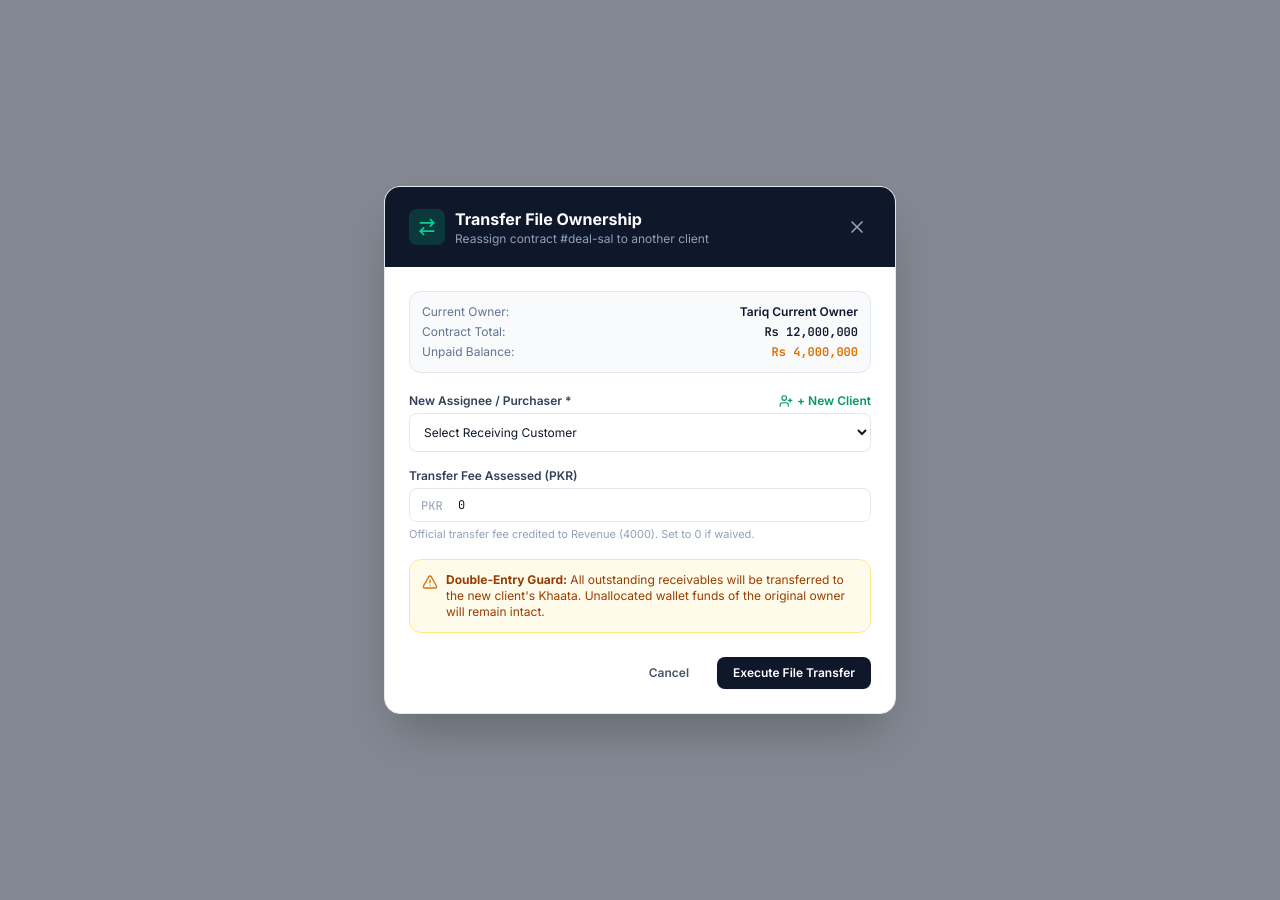
Scenario: TransferFileModal Component › 4. shows validation error when entering a negative transfer fee
The width and height of the screenshot is (1280, 900).
// Select customer
Select "Chaudri Aslam (03002222222)" in the dropdown at (640, 433), box [409,413,871,452]
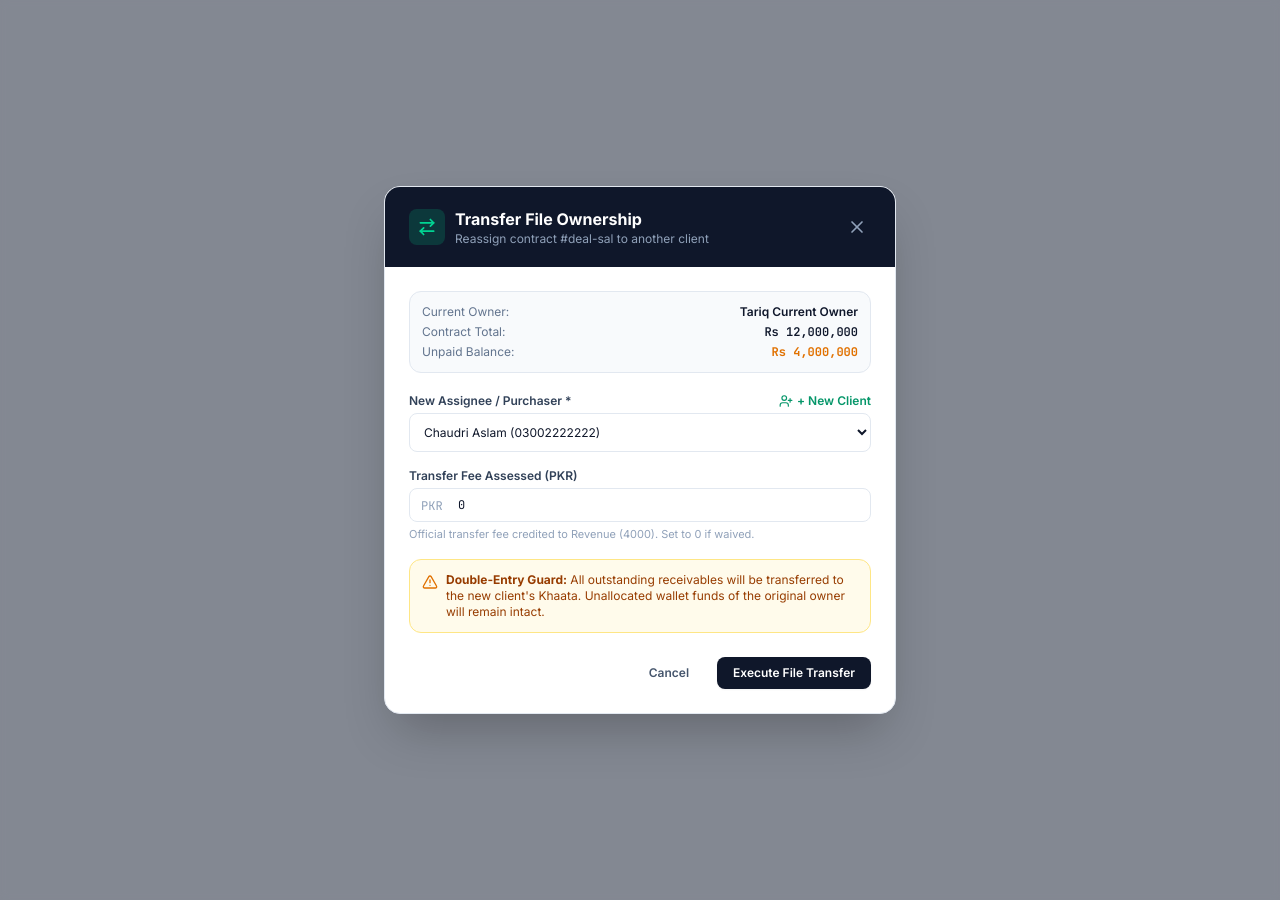
// Enter negative fee
Type "-5000" into the number field with placeholder "0".
click(640, 505); type("-5000")  # box [409,488,871,522]
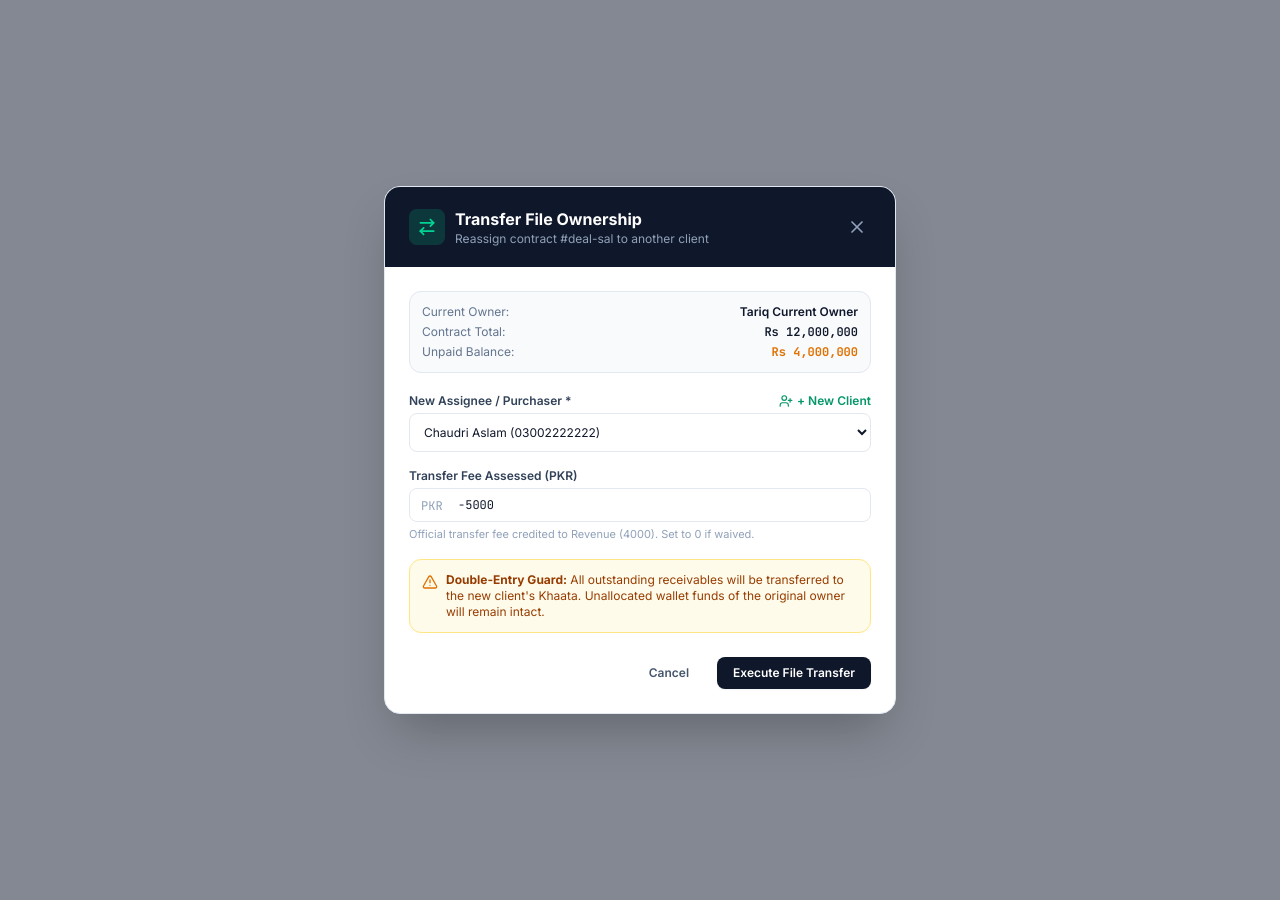
Submit the form named "Execute File Transfer", box [409,393,871,689]
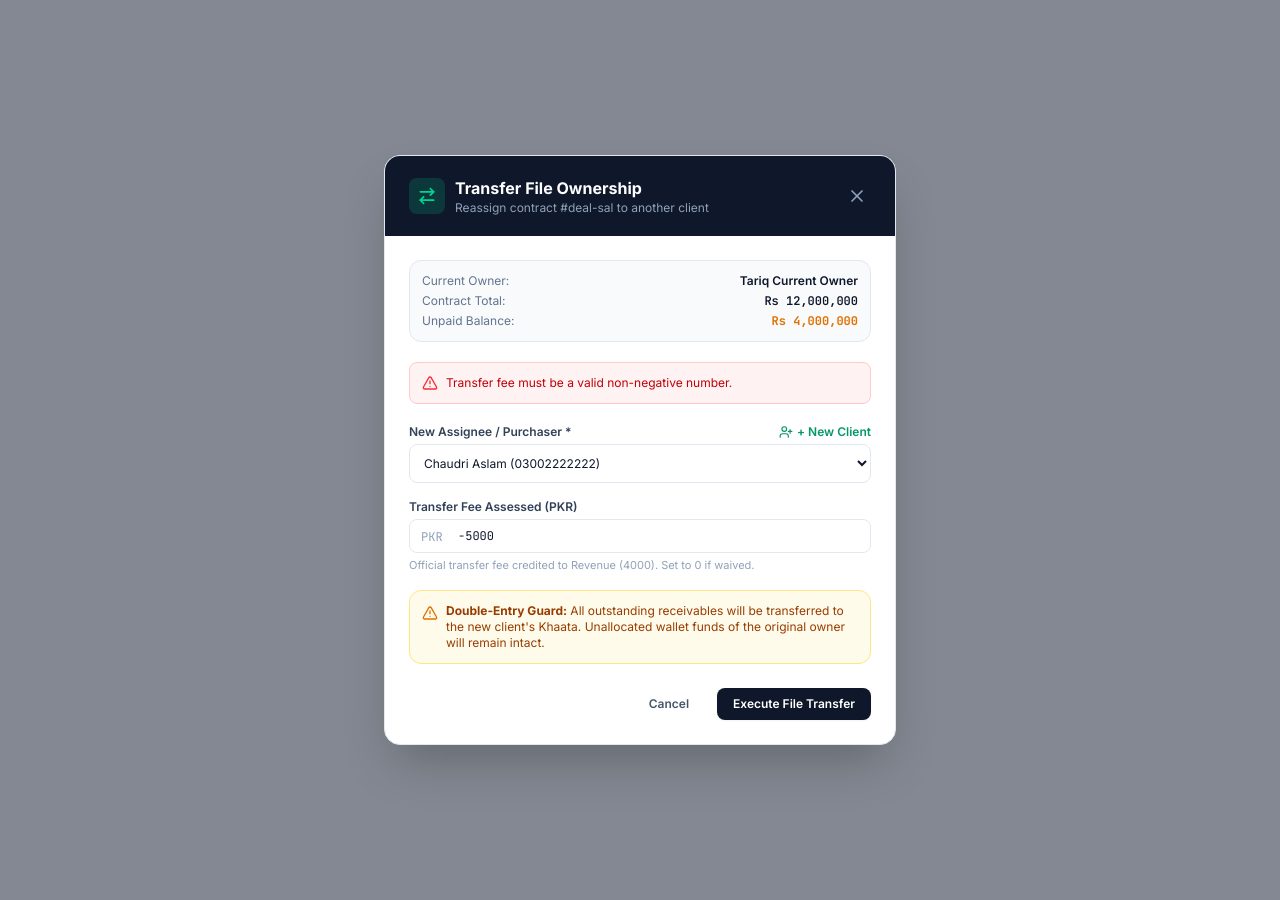
expect the text "Transfer fee must be a valid non-negative number." is shown: met, box [446,375,732,391]
